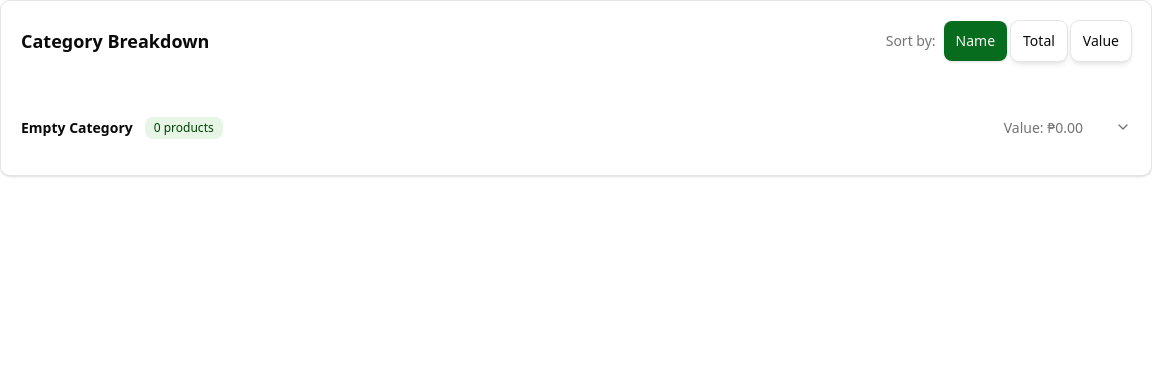
Test: CategoryInventoryBreakdown › Product List › should show empty state when category has no products
The width and height of the screenshot is (1152, 374).
# Expand category
Click the heading "Empty Category": click(77, 128) x1=21 y1=118 x2=133 y2=138
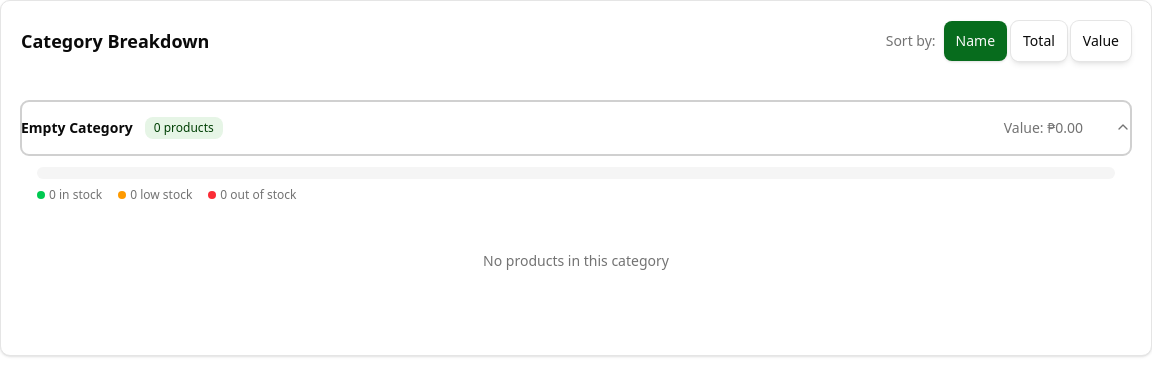
Expected: the text "No products in this category" is shown, x1=483 y1=251 x2=669 y2=270
